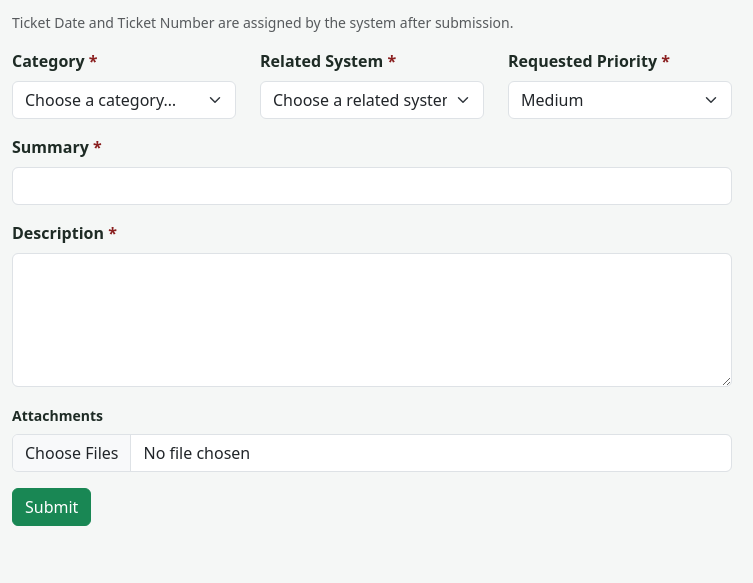
Scenario: CreateTicket › shows a safe failure message and preserves the entered values on API failure
Select "Hardware" in the dropdown labelled "Category *" at [124, 100], box [12,81,236,119]
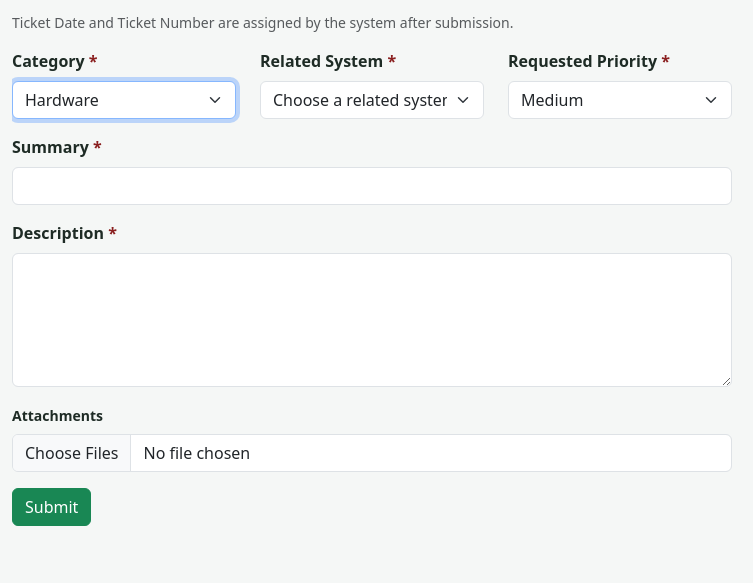
Select "Printer" in the dropdown labelled "Related System *" at [372, 100], box [260,81,484,119]
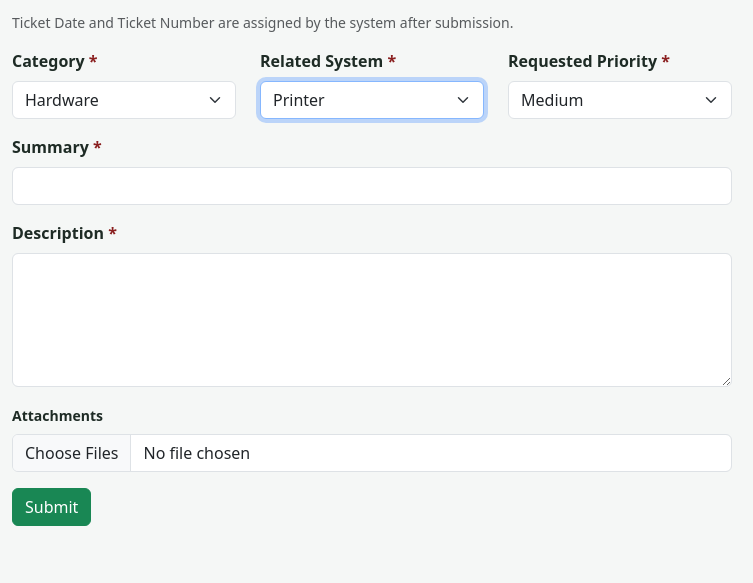
Type "Printer jam" into the field labelled "Summary *" at [372, 186], box [12,167,732,205]
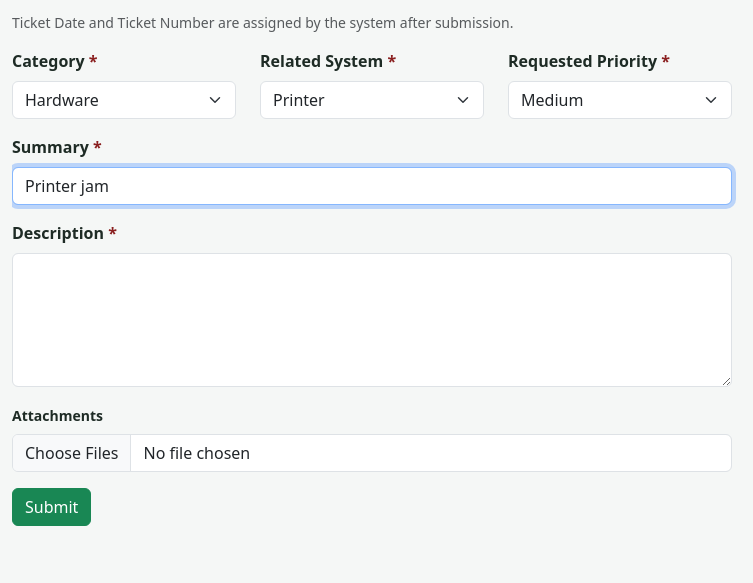
Type "Paper stuck in tray 2" into the text box labelled "Description *" at [372, 320], box [12,253,732,387]
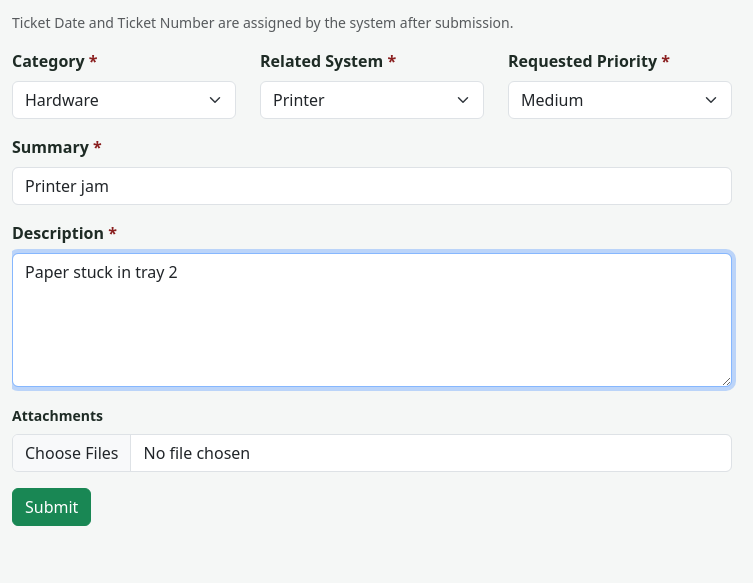
Click the button "Submit" at [52, 507], box [12,488,91,526]
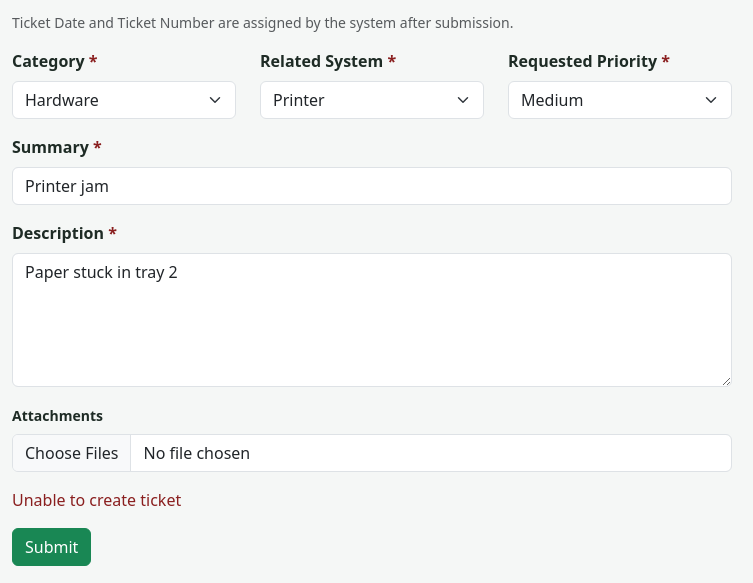
expect the text "Unable to create ticket" is shown: met, box [12,489,181,511]
